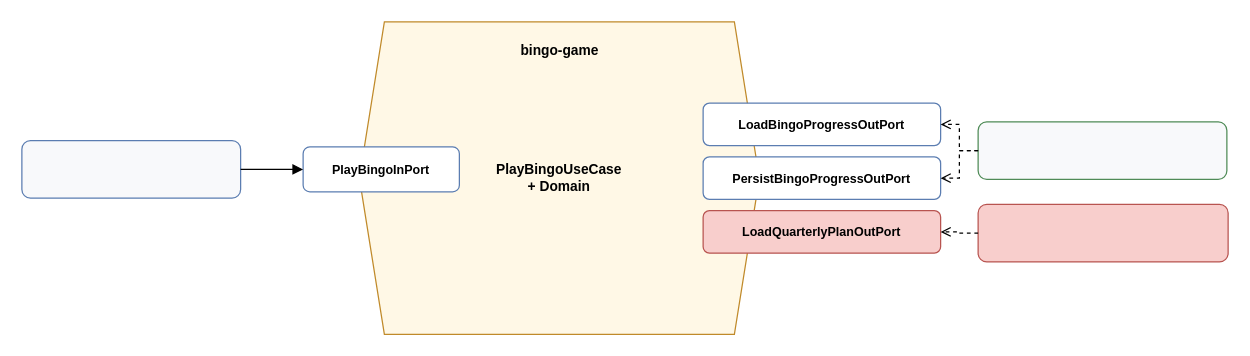
The diagram is 1250 pixels wide and 356 high, and some of its shapes have lost their labels. The shapes that lost their labels are listed below. From the top down, each one's box as (x1, y1, x2, y2) in pixels, then its label:
(21, 139, 241, 198): BingoGameComponent
(977, 121, 1227, 179): LocalStorageBingoGameRepository
(977, 203, 1228, 262): LocalStorageQuarterlyPlanRepository
